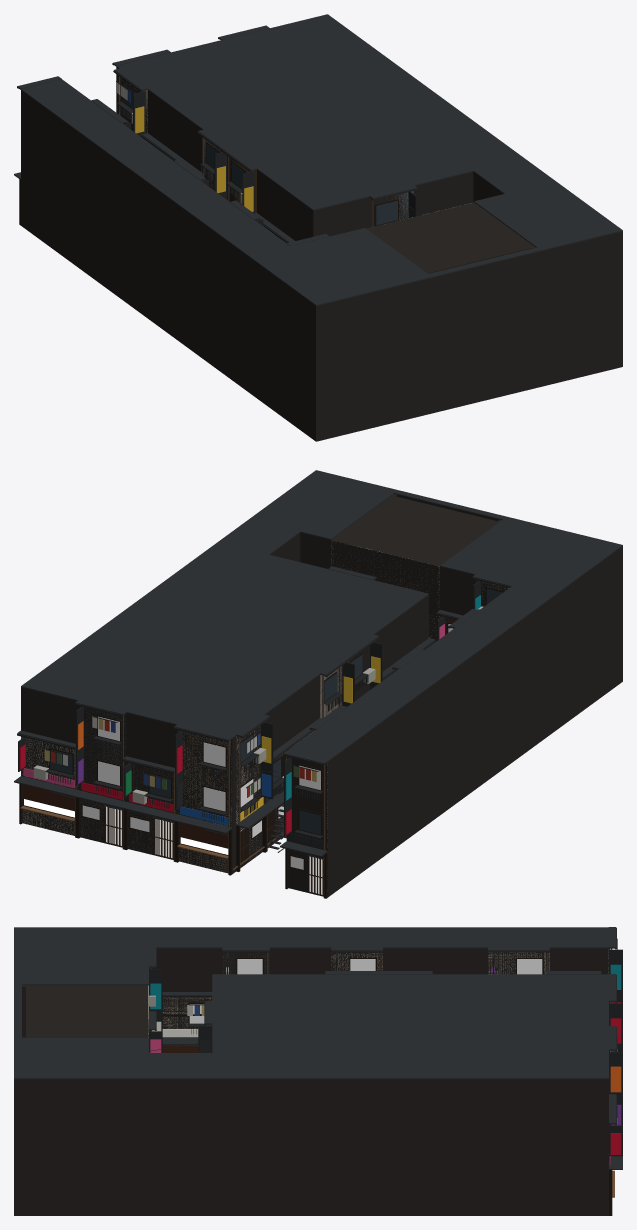
File: yokocho.glb
The picture shows the model from 3 angles, top to bottom: view 1: azimuth 30°, elevation 25°; view 2: azimuth 150°, elevation 25°; view 3: azimuth 270°, elevation 25°; orthographic projection.
Parts seen in each view (by area): view 1: yokocho_a_body; view 2: yokocho_a_body, yokocho_a_signs; view 3: yokocho_a_body, yokocho_a_signs.
Boxes of the visible parts, x1=… form: yokocho_a_body: x1=14, y1=14, x2=622, y2=441; yokocho_a_body: x1=14, y1=470, x2=622, y2=898; yokocho_a_signs: x1=20, y1=595, x2=480, y2=848; yokocho_a_body: x1=14, y1=927, x2=622, y2=1215; yokocho_a_signs: x1=150, y1=965, x2=621, y2=1154.
Bounding box in the file's own units: 18 × 7.68 × 30.7.
